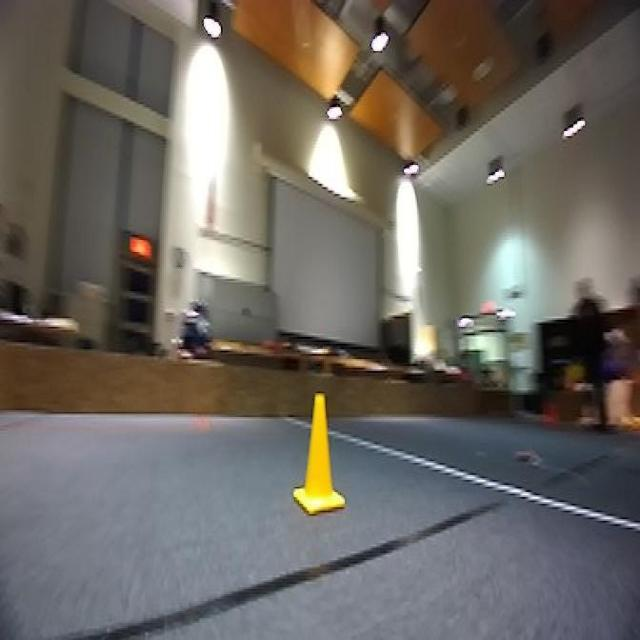frc_cone: (292, 386, 350, 520)
